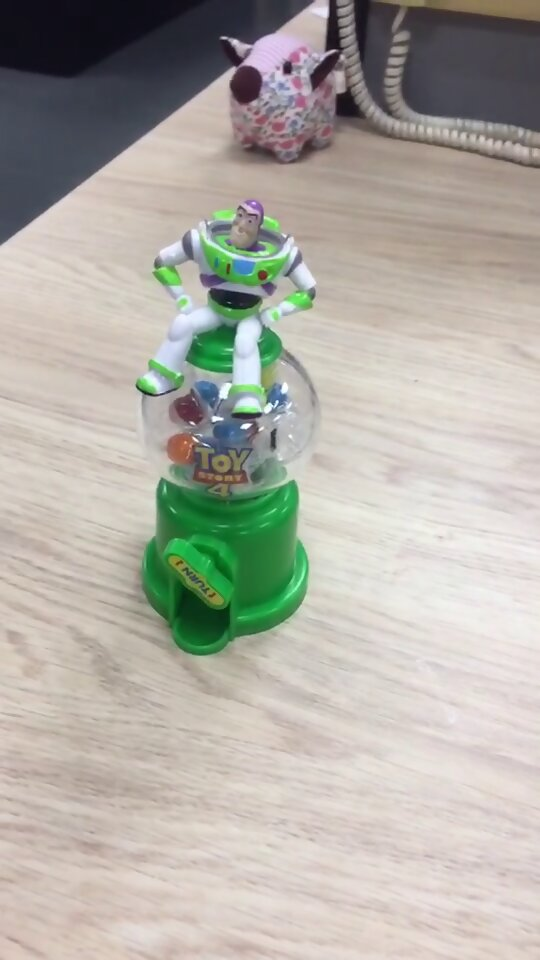buzz: (131, 192, 326, 655)
